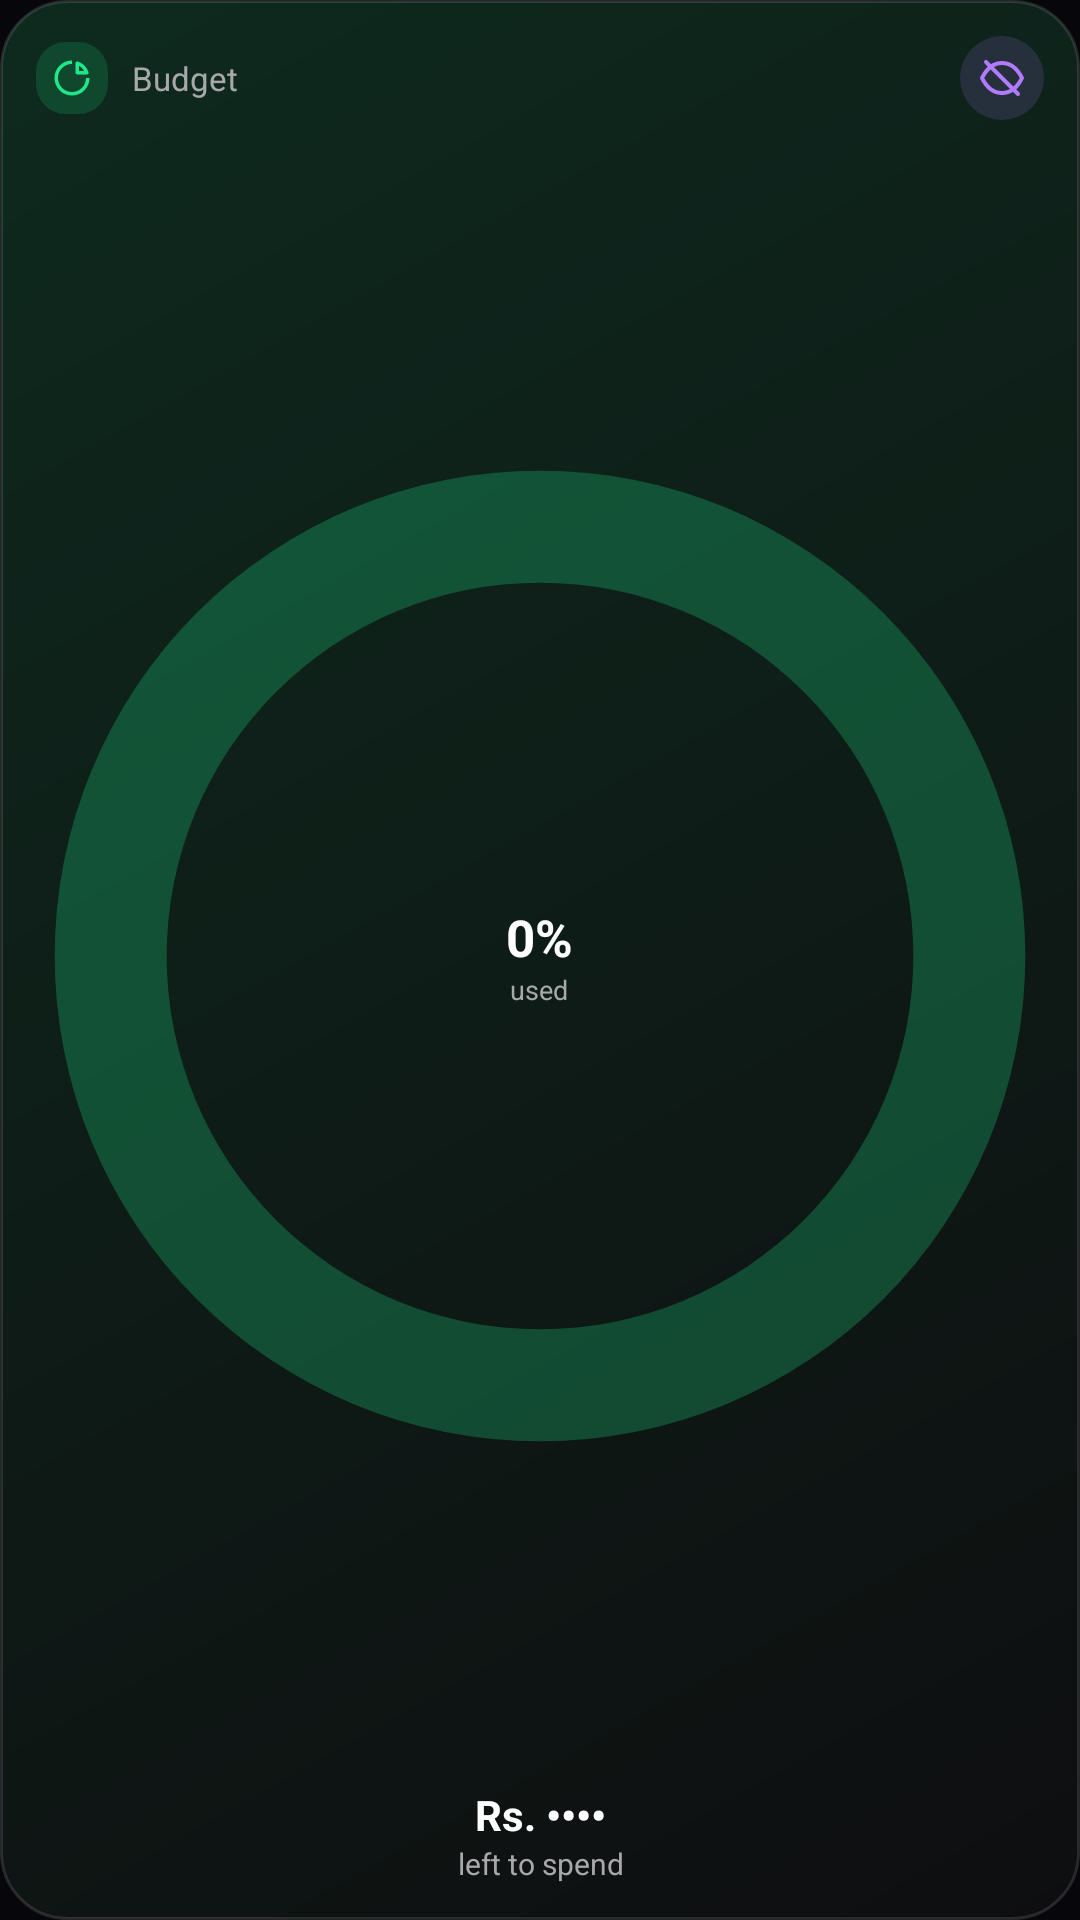

Icons on this 1080x1920 Android screen, each with the point to tap as (x,y):
Show amounts: (1002,78)
